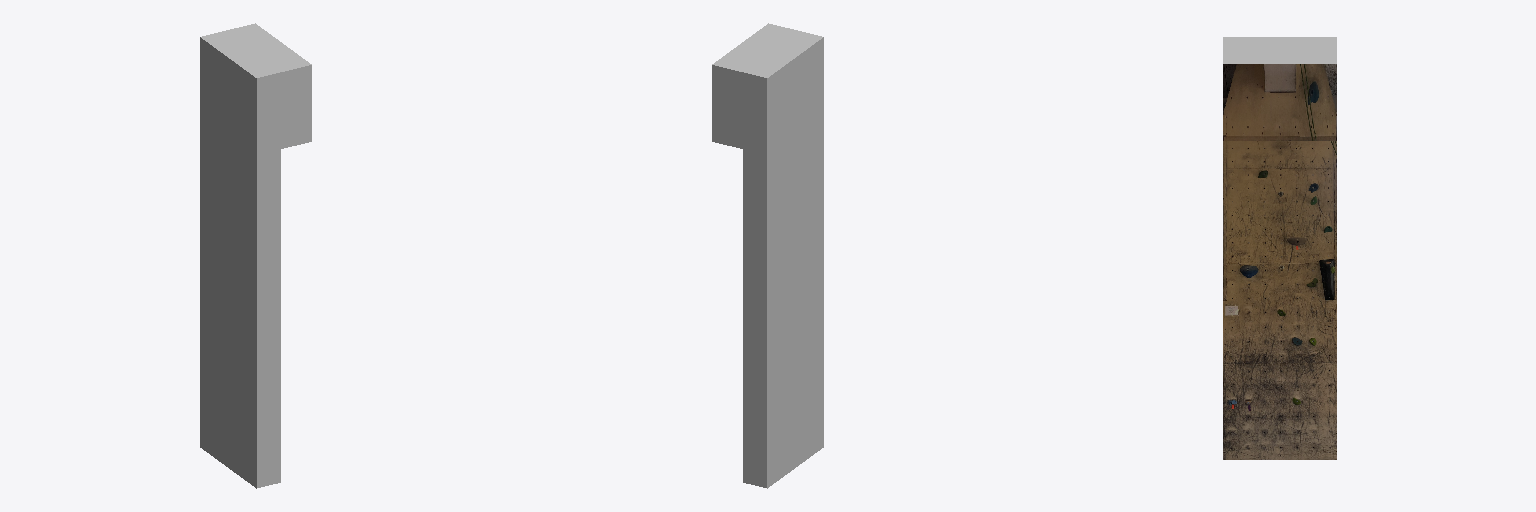
3 renders of one model, left to right at view 1: azimuth 30°, elevation 25°; view 2: azimuth 150°, elevation 25°; view 3: azimuth 270°, elevation 25°, orthographic.
Parts seen in each view (by area): view 1: Cube; view 2: Cube; view 3: Cube.
Part boxes in pixels (bbox=[...]): Cube: bbox=[200, 23, 311, 488]; Cube: bbox=[712, 23, 823, 488]; Cube: bbox=[1223, 37, 1336, 459].
Size of the model in its own units: 0.68 by 4.8 by 1.2.
Materials: 2 (1 with a texture image).